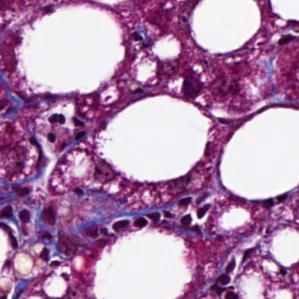inflammation: (112, 192, 213, 234), (0, 204, 57, 255), (205, 244, 256, 295), (39, 110, 91, 150)
